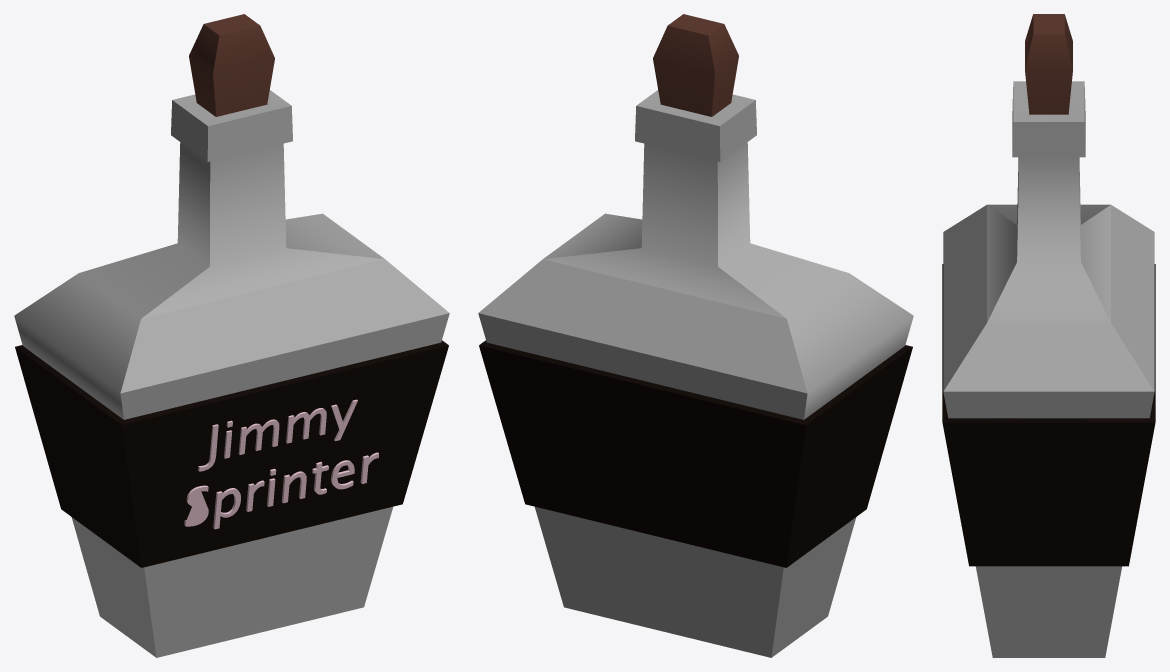
File: Whisky.fbx
3 renders of one model, left to right at view 1: azimuth 30°, elevation 25°; view 2: azimuth 150°, elevation 25°; view 3: azimuth 270°, elevation 25°, orthographic.
Parts seen in each view (by area): view 1: Whiskey3; view 2: Whiskey3; view 3: Whiskey3.
Boxes of the visible parts, left/top/right/bottom form: Whiskey3: left=14, top=14, right=449, bottom=657; Whiskey3: left=478, top=14, right=913, bottom=657; Whiskey3: left=942, top=14, right=1155, bottom=657.
Size of the model in its own units: 27.87 by 47.48 by 15.7.
